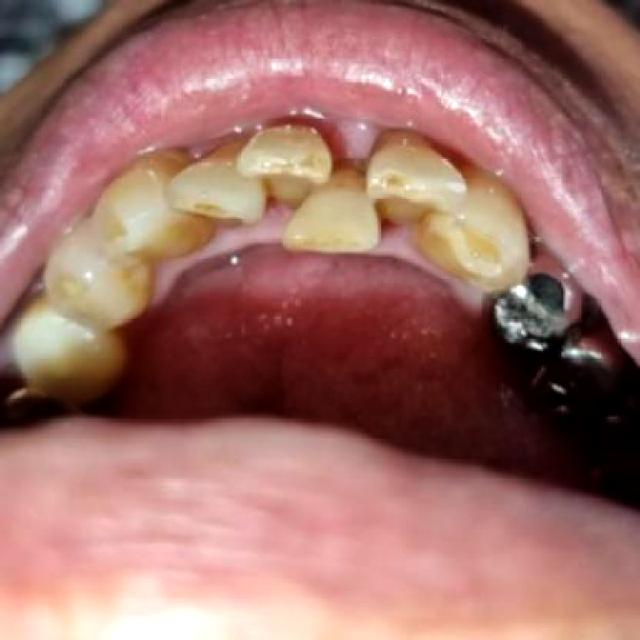Plaque: (316, 121, 377, 169)
